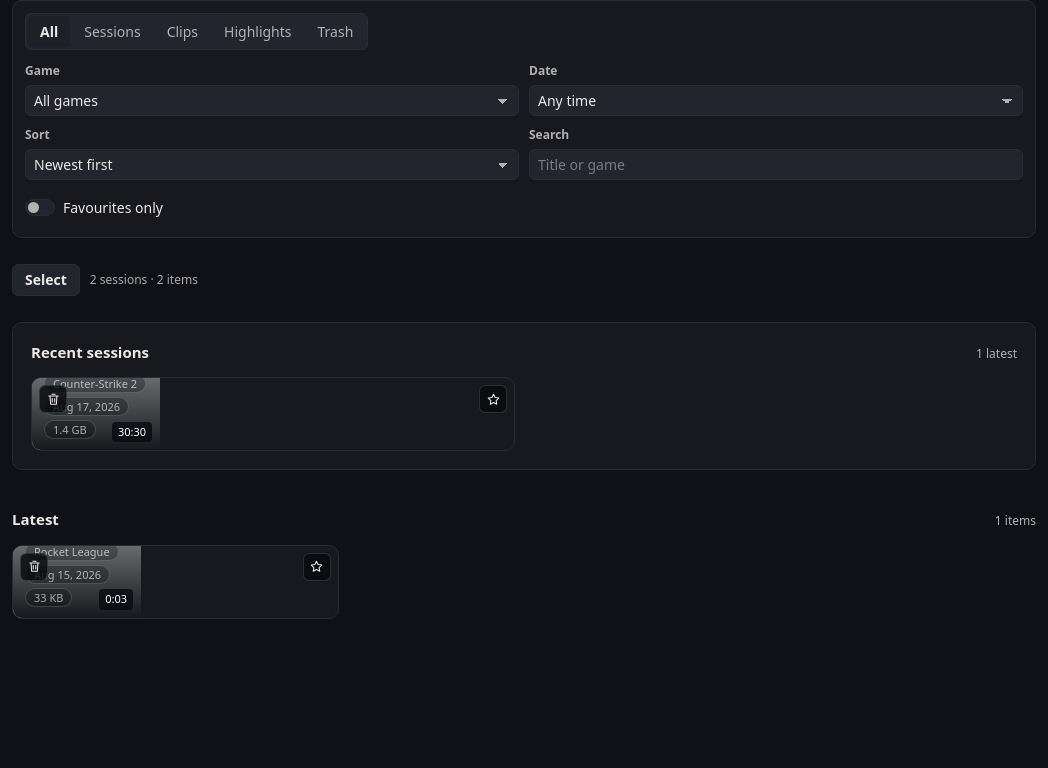
Test: LibraryView delete and selection › offers no card checkboxes until selection mode is entered, and drops them again on Done
This screenshot has width=1048, height=768.
What coordinates should you click on to do the following:
click the button "Select"
I would click on:
 (46, 280)
Its box is [12, 264, 80, 296].
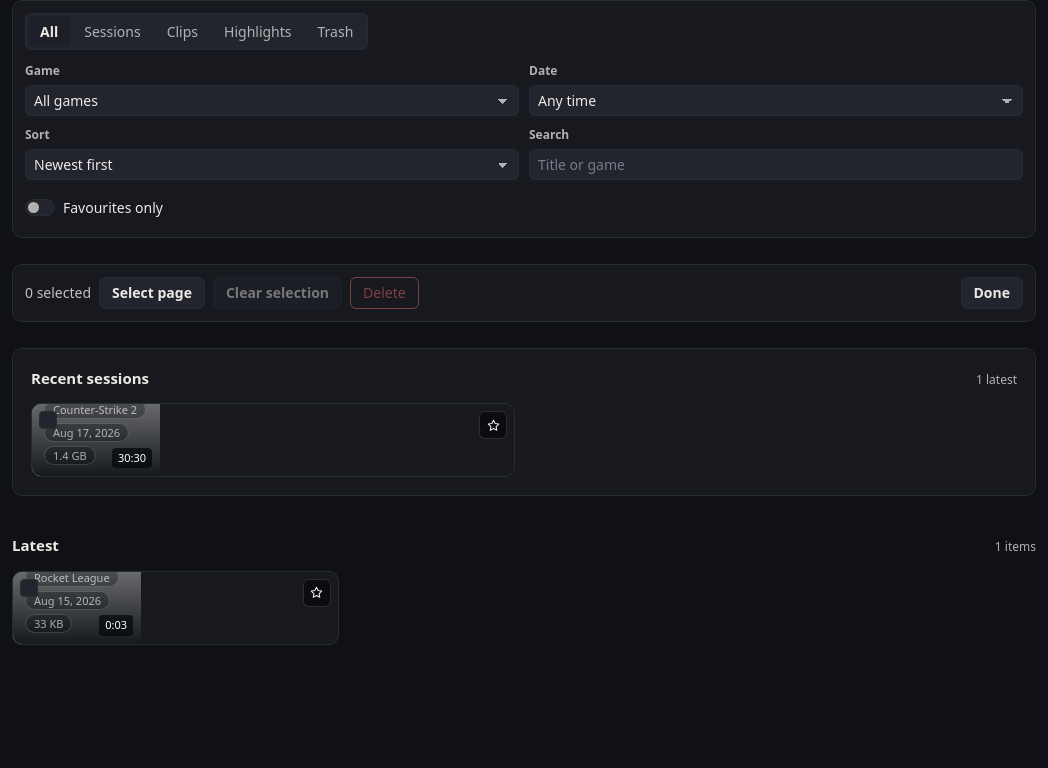
Now the number of checkboxes with class "content-card-select" is 2, box [39, 411, 57, 429]; [20, 578, 38, 596]
Now the text with test id "library-selection-count" reads "0 selected", box [25, 282, 91, 303]
What coordinates should you click on to do the following:
click the button "Done"
I would click on:
 (992, 293)
Its box is [960, 277, 1023, 308].
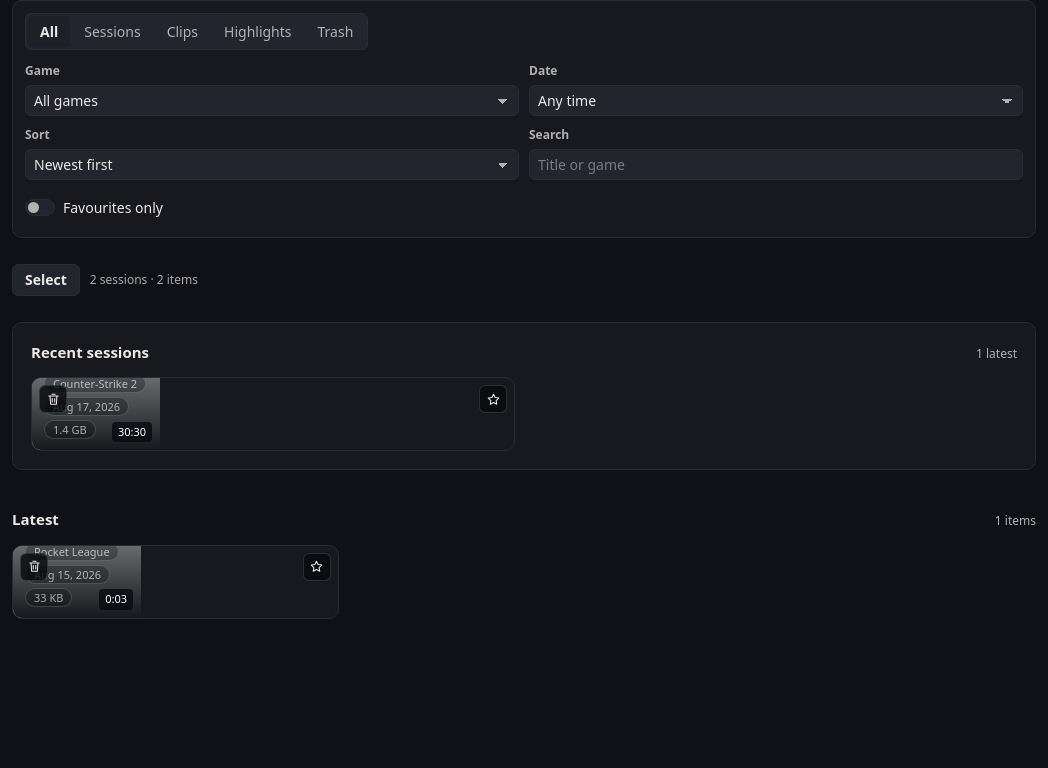
Expected: the button "Select" is shown, [12, 264, 80, 296]
Now no checkboxes with class "content-card-select" are shown
